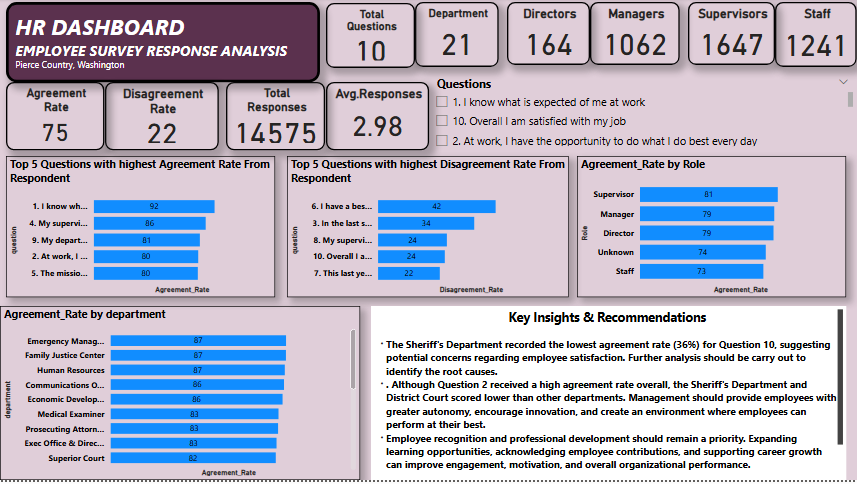

The page's visual inventory and layout, read from the dashboard file:
{"tool":"powerbi","page":{"name":"Page 1","canvas":[1280,720],"ordinal":0},"visuals":[{"type":"card","title":"Total Responses","fields":{"Values":["Count(public employee_survey_response.response_id)"]},"box":[337.9,125.1,148.4,101.9],"z":0},{"type":"textbox","box":[9,6,469,119.5],"z":1000},{"type":"card","title":"Department","fields":{"Values":["Count(public employee_survey_response.department)"]},"box":[619.9,6,125.5,97.1],"z":2000},{"type":"card","title":"Total Questions","fields":{"Values":["Count(public employee_survey_response.question)"]},"box":[487,7.5,132.9,97.1],"z":3000},{"type":"card","title":"Directors","fields":{"Values":["public employee_survey_response.Total_Directors"]},"box":[757.3,6,124,94.1],"z":4000},{"type":"card","title":"Managers","fields":{"Values":["public employee_survey_response.Total_managers"]},"box":[881.3,6,134.4,94.1],"z":5000},{"type":"card","title":"Staff","fields":{"Values":["public employee_survey_response.Total_staff"]},"box":[1157.7,6,122.5,97.1],"z":6000},{"type":"card","title":"Supervisors","fields":{"Values":["public employee_survey_response.Total_supervisors"]},"box":[1027.7,6,130,94.1],"z":7000},{"type":"card","title":"Disagreement Rate","fields":{"Values":["public employee_survey_response.Disagreement_Rate"]},"box":[157.3,125.1,169.8,101.9],"z":8000},{"type":"card","title":"Agreement Rate","fields":{"Values":["public employee_survey_response.Agreement_Rate"]},"box":[8.9,125.1,146.6,101.9],"z":9000},{"type":"clusteredBarChart","title":"Top 5 Questions with highest Agreement Rate  From Respondent","fields":{"Category":["public employee_survey_response.question"],"Y":["public employee_survey_response.Agreement_Rate"]},"box":[9,236,401.8,210.6],"z":10000},{"type":"clusteredBarChart","title":"Top 5 Questions with highest Disagreement Rate From Respondent","fields":{"Category":["public employee_survey_response.question"],"Y":["public employee_survey_response.Disagreement_Rate"]},"box":[428.7,236,421.2,210.6],"z":11000},{"type":"slicer","fields":{"Values":["public employee_survey_response.question"]},"box":[640,110.8,640,116.2],"z":12000},{"type":"clusteredBarChart","fields":{"Category":["public employee_survey_response.Role"],"Y":["public employee_survey_response.Agreement_Rate"]},"box":[861.9,236,401.8,210.6],"z":13000},{"type":"card","title":"Avg.Responses","fields":{"Values":["public employee_survey_response.Avg.response_score"]},"box":[486.3,125.1,153.7,101.9],"z":14000},{"type":"clusteredBarChart","fields":{"Category":["public employee_survey_response.department"],"Y":["public employee_survey_response.Agreement_Rate"]},"box":[0,460.1,537.8,259.9],"z":15000},{"type":"textbox","box":[554.2,460.1,709.5,259.9],"z":16000}]}

Visuals, with their boxes in screenshot pixels (x1, y1, x2, y2), scaled from the page's 1280x720 canvas onto the 857x484 screenshot:
"Total Responses" card: region(226, 84, 326, 153)
textbox: region(6, 4, 320, 84)
"Department" card: region(415, 4, 499, 69)
"Total Questions" card: region(326, 5, 415, 70)
"Directors" card: region(507, 4, 590, 67)
"Managers" card: region(590, 4, 680, 67)
"Staff" card: region(775, 4, 856, 69)
"Supervisors" card: region(688, 4, 775, 67)
"Disagreement Rate" card: region(105, 84, 219, 153)
"Agreement Rate" card: region(6, 84, 104, 153)
"Top 5 Questions with highest Agreement Rate  From Respondent" clusteredBarChart: region(6, 159, 275, 300)
"Top 5 Questions with highest Disagreement Rate From Respondent" clusteredBarChart: region(287, 159, 569, 300)
slicer - public employee_survey_response.question: region(428, 74, 856, 153)
clusteredBarChart - public employee_survey_response.Role x public employee_survey_response.Agreement_Rate: region(577, 159, 846, 300)
"Avg.Responses" card: region(326, 84, 428, 153)
clusteredBarChart - public employee_survey_response.department x public employee_survey_response.Agreement_Rate: region(0, 309, 360, 483)
textbox: region(371, 309, 846, 483)
